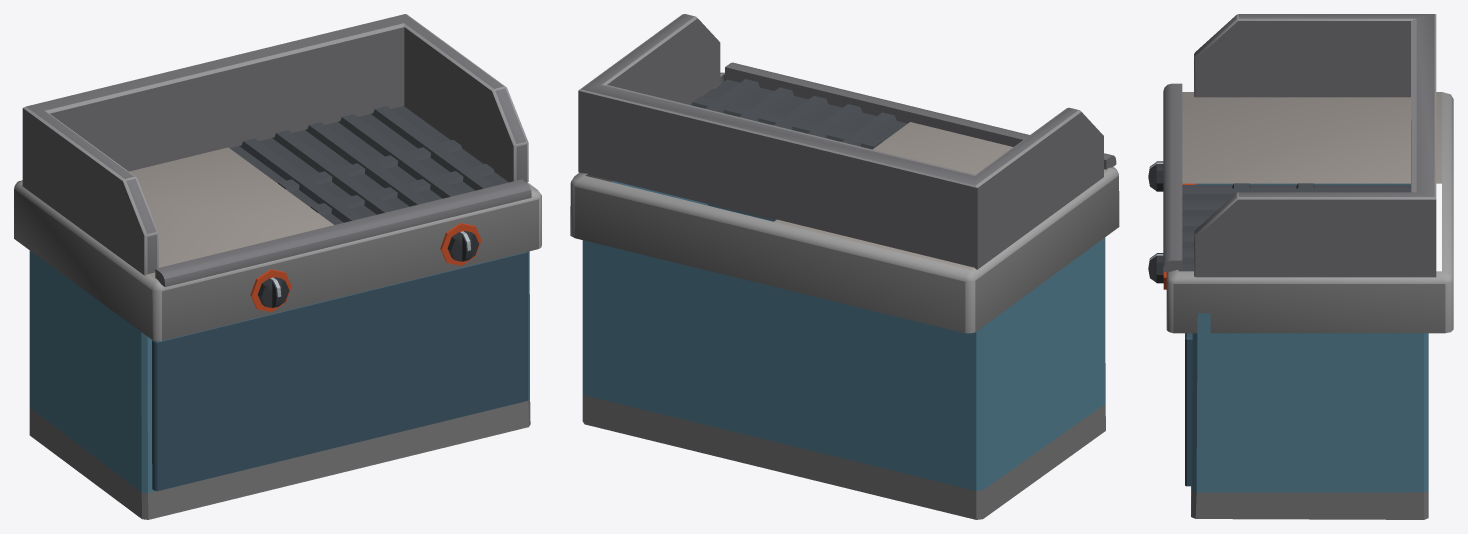
Rendered from Cooking_01.fbx.
The picture shows the model from 3 angles, left to right: view 1: azimuth 30°, elevation 25°; view 2: azimuth 150°, elevation 25°; view 3: azimuth 270°, elevation 25°; orthographic projection. The views are drawn at different scales.
Visible parts, largest first — view 1: Cooking_01; view 2: Cooking_01; view 3: Cooking_01.
Part boxes in pixels (x1,y1,x2,y2): Cooking_01: (14, 14, 541, 519); Cooking_01: (570, 14, 1119, 519); Cooking_01: (1148, 14, 1453, 519).
Bounding box in the file's own units: 2.3 × 1.83 × 1.58.
